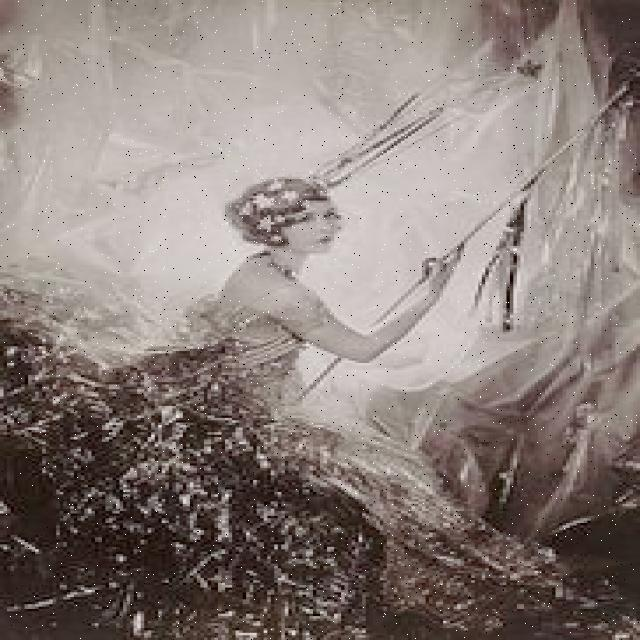picture: (17, 6, 636, 640)
